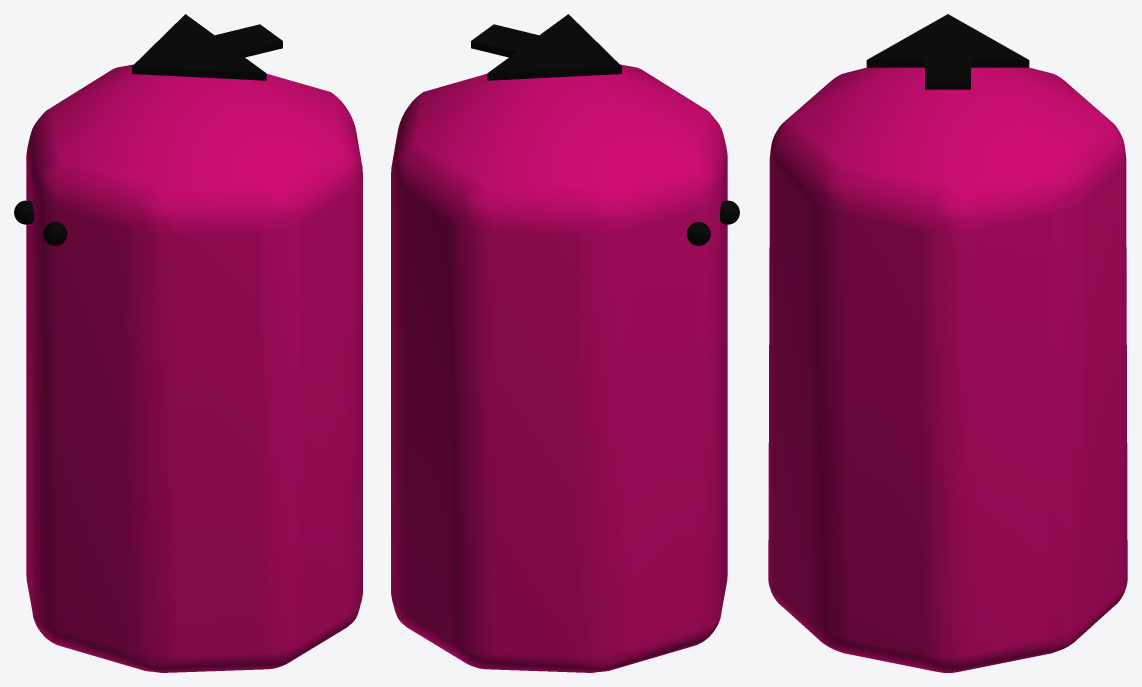
The picture shows the model from 3 angles, left to right: view 1: azimuth 30°, elevation 25°; view 2: azimuth 150°, elevation 25°; view 3: azimuth 270°, elevation 25°; orthographic projection.
Visible parts, largest first — view 1: Cube.020_Cube.008_Material.004, Cube.020_Cube.008_SVGMat; view 2: Cube.020_Cube.008_Material.004, Cube.020_Cube.008_SVGMat; view 3: Cube.020_Cube.008_Material.004, Cube.020_Cube.008_SVGMat.
Part boxes in pixels (bbox=[...]): Cube.020_Cube.008_Material.004: bbox=[26, 64, 362, 672]; Cube.020_Cube.008_SVGMat: bbox=[14, 14, 282, 245]; Cube.020_Cube.008_Material.004: bbox=[391, 64, 727, 672]; Cube.020_Cube.008_SVGMat: bbox=[471, 14, 739, 245]; Cube.020_Cube.008_Material.004: bbox=[768, 67, 1127, 672]; Cube.020_Cube.008_SVGMat: bbox=[866, 14, 1029, 89].
Bounding box in the file's own units: 0.2642 × 0.4425 × 0.2565.
